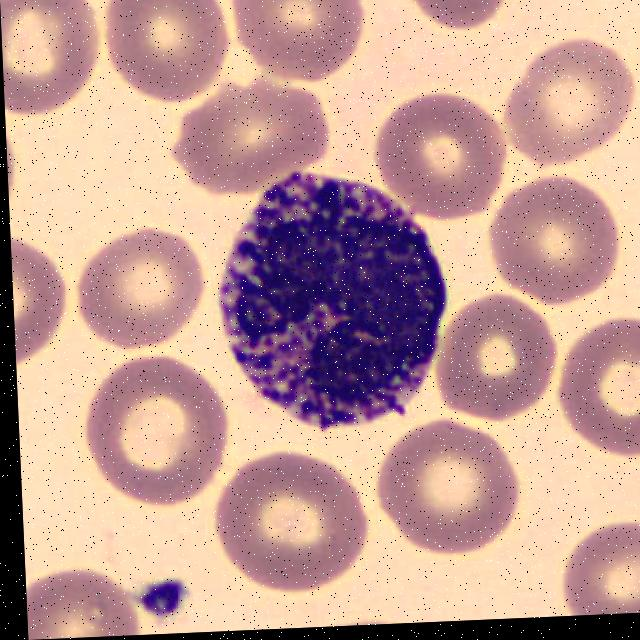basophil: (212, 165, 453, 434)
platelets: (133, 569, 194, 627)
rbc: (80, 338, 238, 511), (210, 448, 378, 597), (376, 422, 529, 571), (434, 284, 574, 440), (497, 35, 635, 183), (172, 76, 332, 199), (494, 180, 629, 310), (381, 89, 516, 219), (106, 0, 255, 104), (70, 237, 198, 355), (0, 0, 105, 134), (556, 309, 640, 469), (224, 0, 362, 96), (25, 551, 138, 640), (10, 226, 73, 377), (559, 523, 640, 616), (394, 0, 528, 56), (6, 127, 20, 209)
